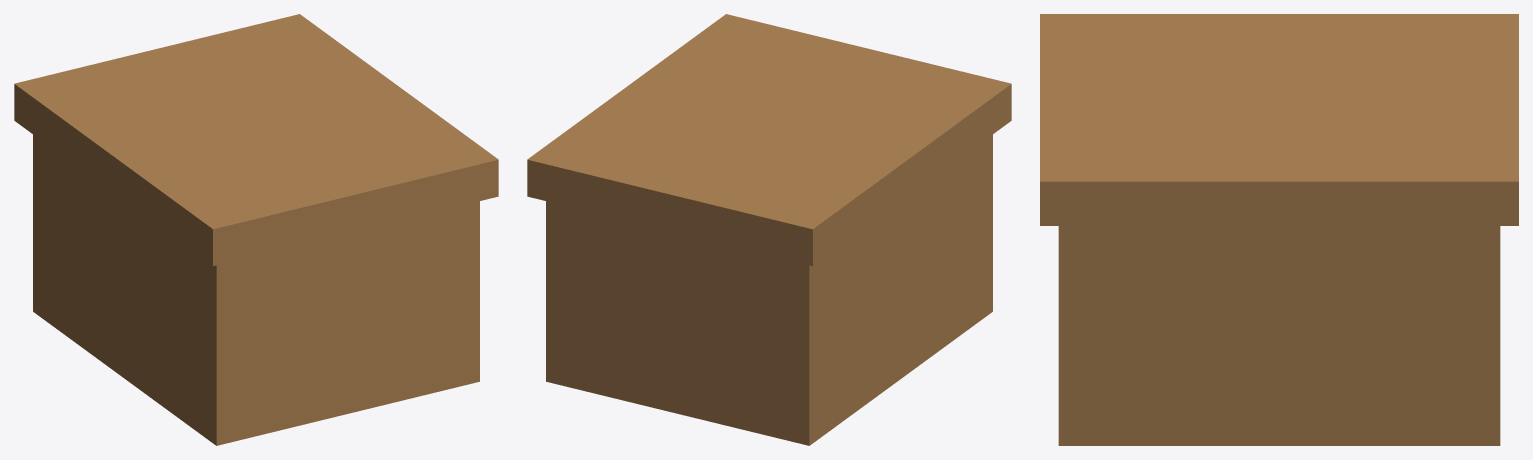
File: CARDBOARDBOX.fbx
The picture shows the model from 3 angles, left to right: view 1: azimuth 30°, elevation 25°; view 2: azimuth 150°, elevation 25°; view 3: azimuth 270°, elevation 25°; orthographic projection. The views are drawn at different scales.
Visible parts, largest first — view 1: CardboardBox; view 2: CardboardBox; view 3: CardboardBox.
Part boxes in pixels (<box>): CardboardBox: <box>14,14,498,445</box>; CardboardBox: <box>527,14,1011,445</box>; CardboardBox: <box>1040,14,1518,445</box>.
Size of the model in its own units: 2.55 by 1.92 by 3.08.
